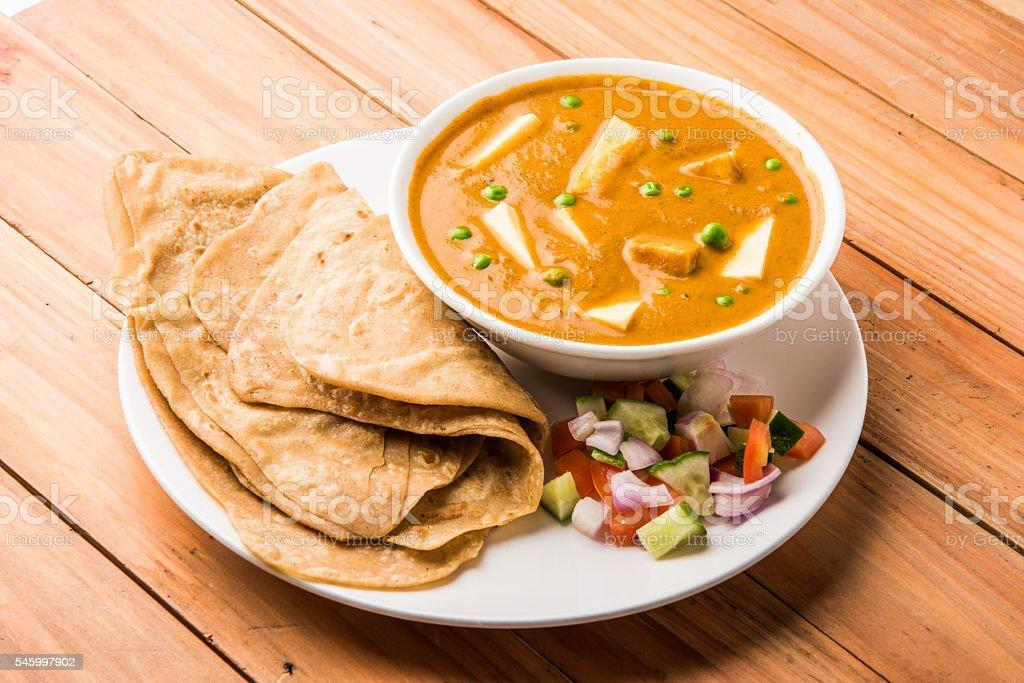paneer: (477, 129, 711, 285)
